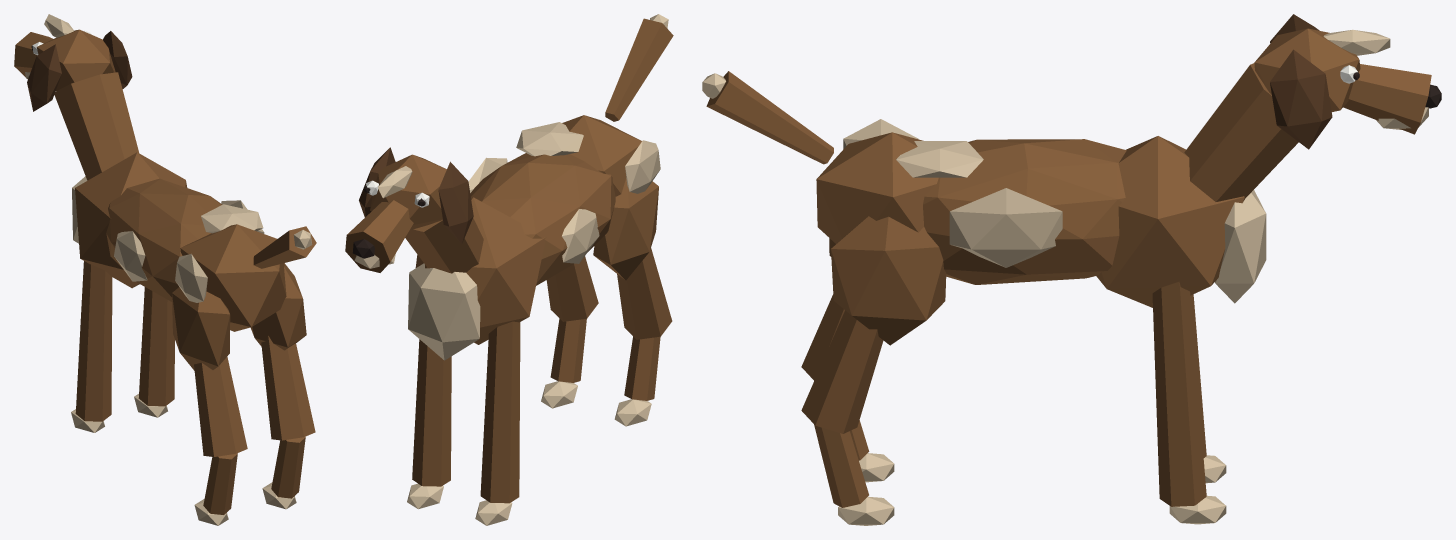
The model's file is sm_env_animal_dog.glb.
3 renders of one model, left to right at view 1: azimuth 30°, elevation 25°; view 2: azimuth 150°, elevation 25°; view 3: azimuth 270°, elevation 25°, orthographic. The views are drawn at different scales.
Parts seen in each view (by area): view 1: Barrel, Haunch, Neck, FrontLeg, Chest, BackLegUpper.001, BackLegUpper, BackThigh, FrontLeg.001, Skull, BackThigh.001, BackLegLower.001 (+13 smaller); view 2: Barrel, Chest, FrontLeg, ChestPatch, FrontLeg.001, BackThigh, BackLegUpper, Haunch, Neck, Skull, TailMesh, Snout (+14 smaller); view 3: Barrel, Chest, BackThigh.001, FrontLeg.001, Neck, Haunch, SpotFlankR, BackLegUpper.001, Ear.001, TailMesh, Snout, ChestPatch (+7 smaller).
Boxes of the visible parts, x1,y1,x2,y2 form: Barrel: (106,178,222,301); Haunch: (180,224,286,331); Neck: (54,72,138,180); FrontLeg: (75,261,112,421); Chest: (75,152,187,288); BackLegUpper.001: (261,335,315,440); BackLegUpper: (194,357,247,456); BackThigh: (172,287,230,370); FrontLeg.001: (138,287,174,406); Skull: (36,29,115,90); BackThigh.001: (250,263,306,350); BackLegLower.001: (271,436,305,498); Barrel: (470,153,615,285); Chest: (415,197,546,344); FrontLeg: (480,321,520,503); ChestPatch: (408,263,480,360); FrontLeg.001: (412,339,451,486); BackThigh: (593,178,658,280); BackLegUpper: (617,248,672,339); Haunch: (562,115,641,196); Neck: (405,218,483,273); Skull: (370,154,446,229); TailMesh: (605,18,673,121); Snout: (345,200,413,272); Barrel: (923,139,1126,284); Chest: (1096,136,1244,307); BackThigh.001: (831,216,946,345); FrontLeg.001: (1152,281,1206,506); Neck: (1184,63,1298,201); Haunch: (816,132,938,243); SpotFlankR: (949,188,1062,267); BackLegUpper.001: (801,310,883,433); Ear.001: (1270,49,1332,149); TailMesh: (706,71,833,164); Snout: (1343,64,1431,134); ChestPatch: (1215,190,1266,303).
Bounding box in the file's own units: 0.2349 × 0.7137 × 1.
